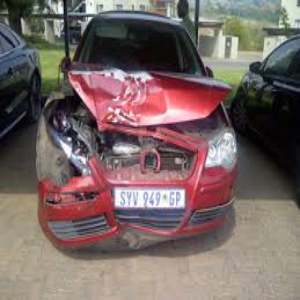bonnet: (76, 65, 221, 129)
